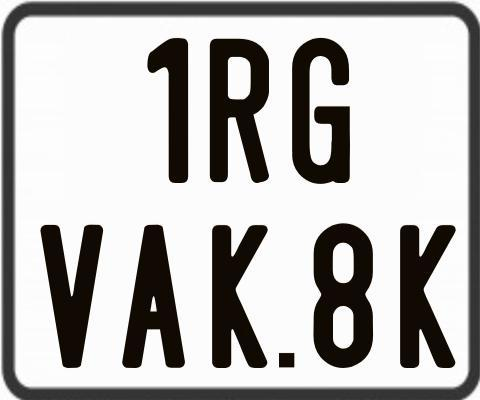1: (145, 36, 191, 182)
8: (310, 221, 370, 370)
A: (120, 224, 189, 371)
G: (292, 38, 354, 187)
K: (211, 224, 269, 373), (400, 225, 458, 374)
R: (207, 39, 269, 184)
V: (41, 222, 106, 365)
